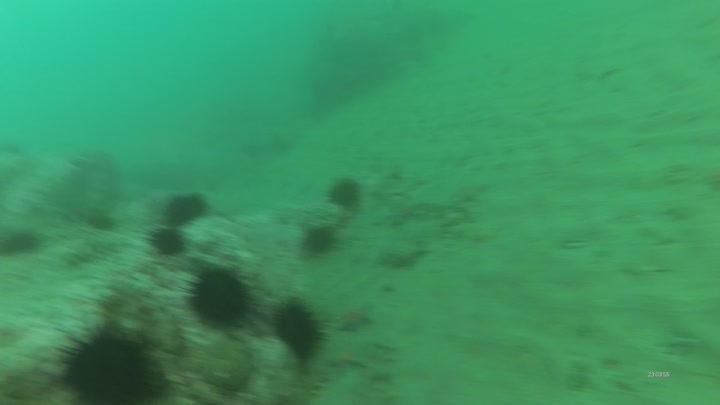echinus: (51, 318, 186, 405), (175, 263, 267, 331), (266, 297, 335, 363), (158, 193, 209, 229), (139, 224, 188, 257), (323, 178, 363, 210), (301, 224, 340, 256), (1, 232, 44, 257), (84, 212, 118, 233)
starfish: (336, 303, 376, 334)
